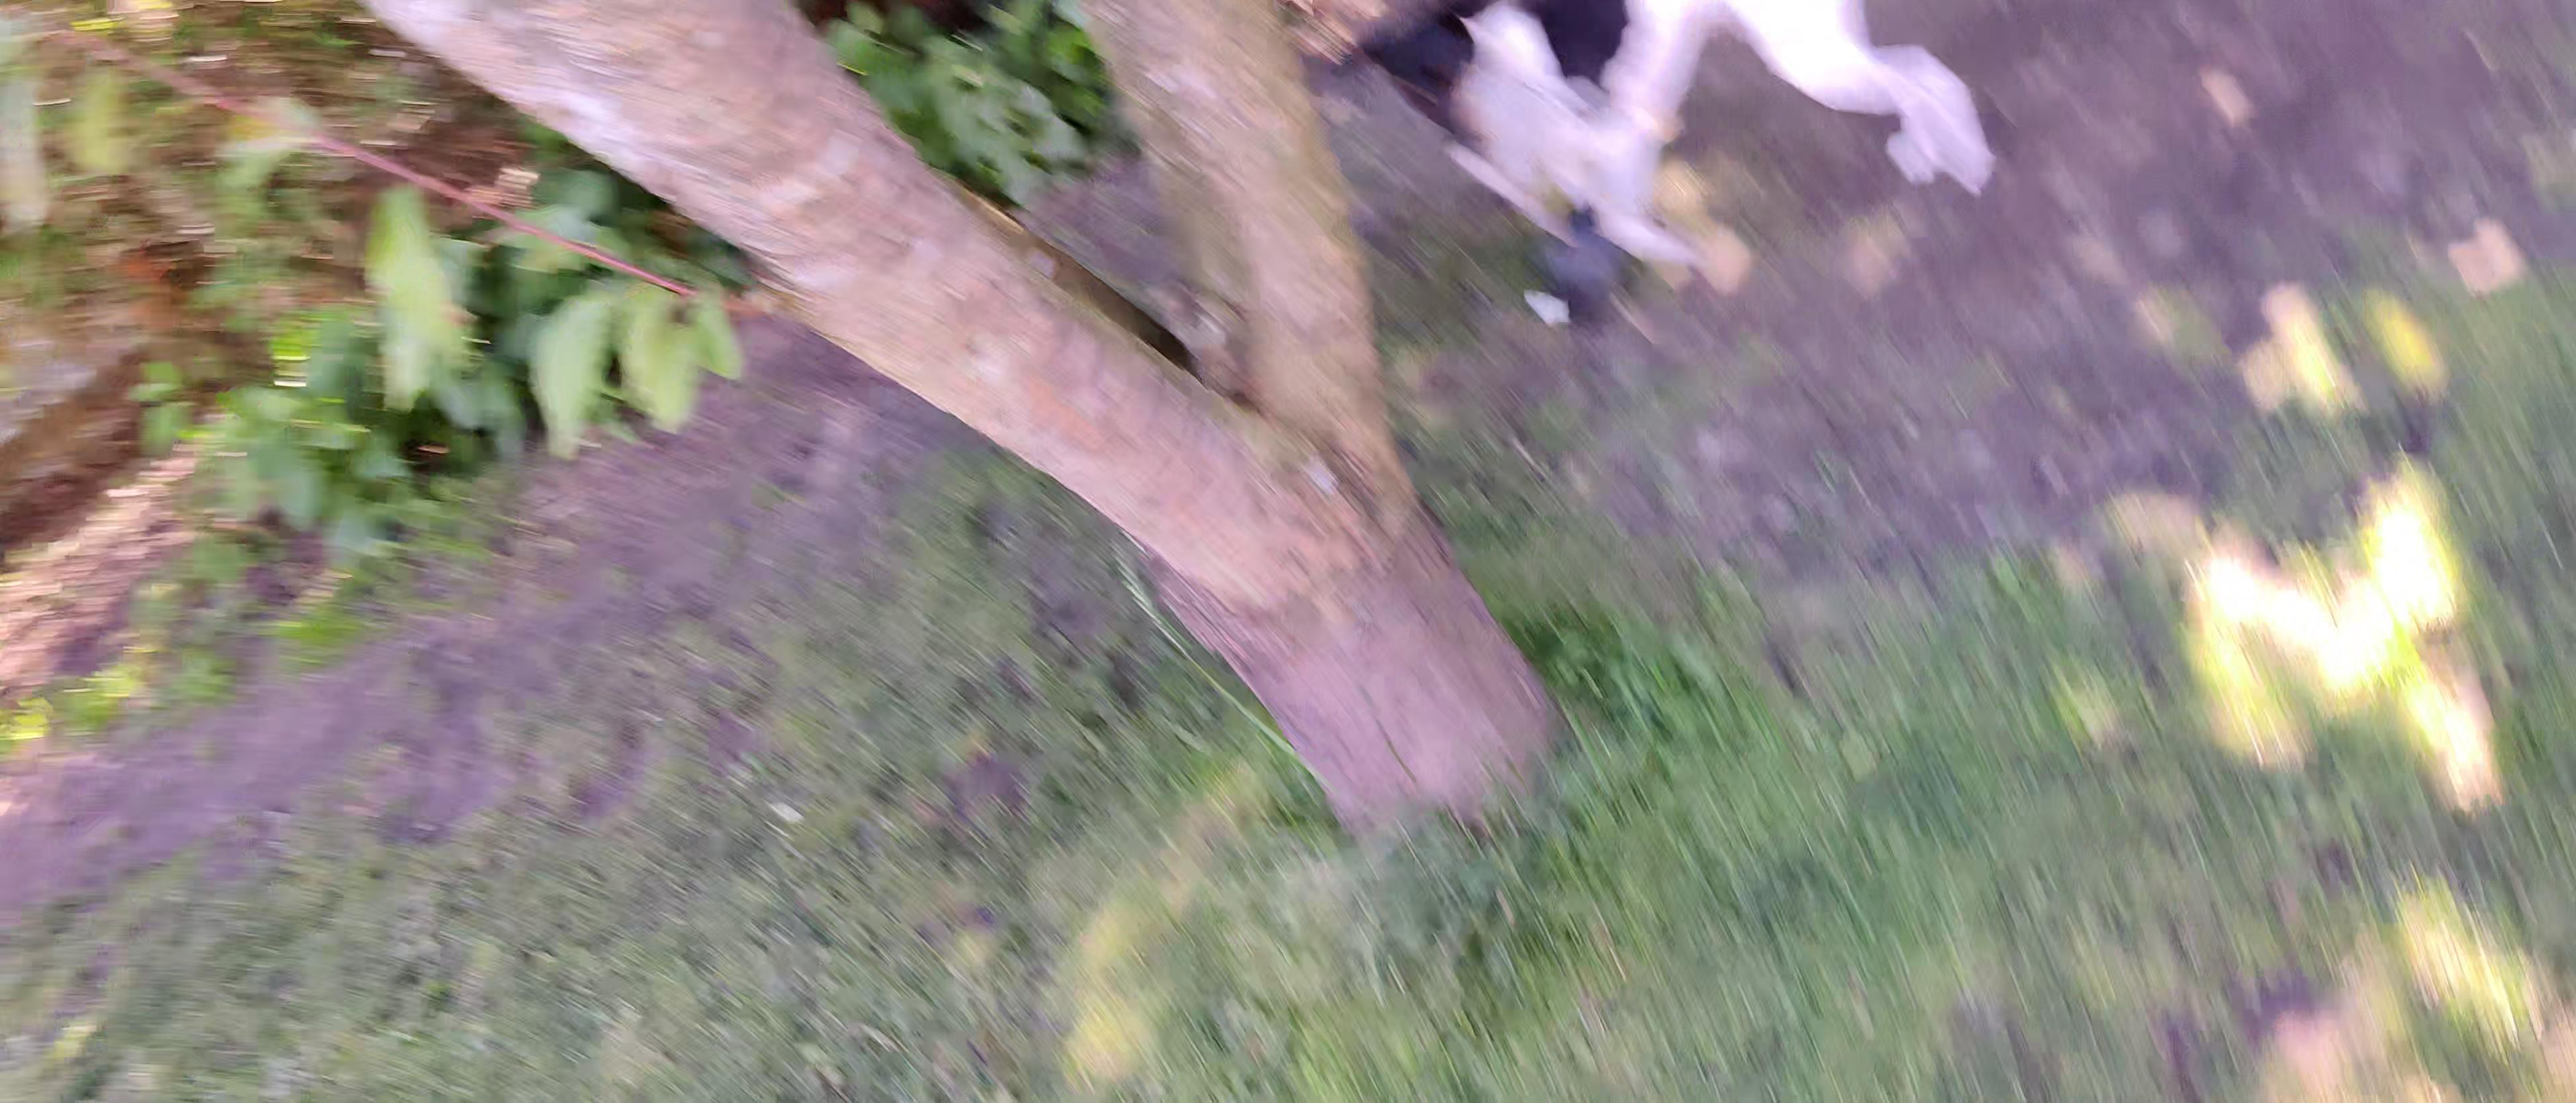Dog: (1321, 0, 2008, 278)
